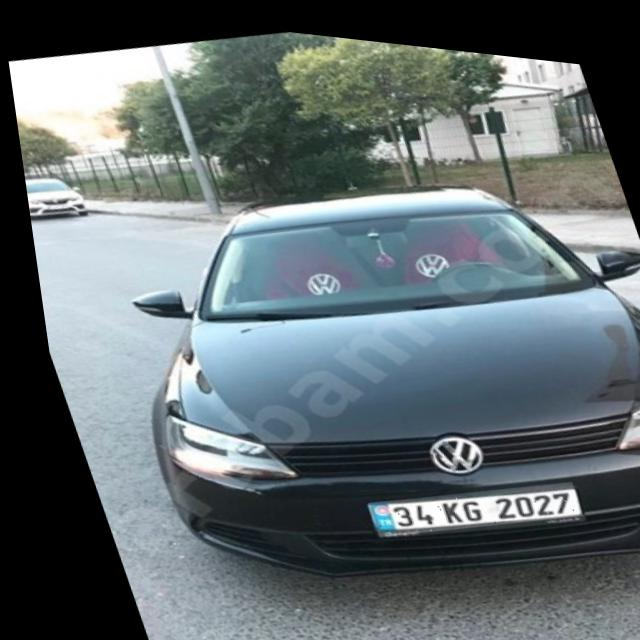license_plate: (349, 451, 575, 548)
